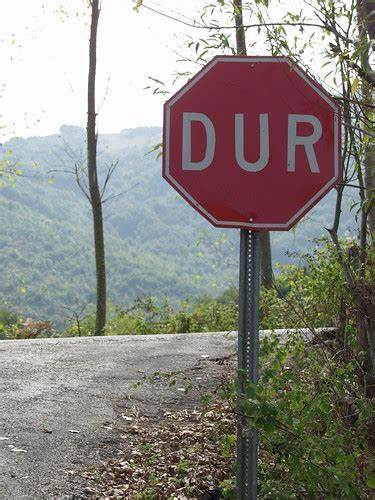dur: (160, 52, 342, 229)
